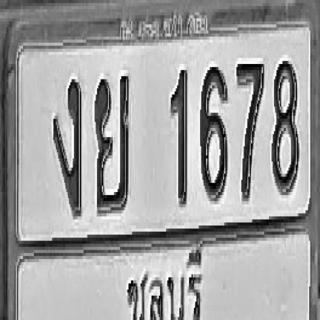A07: (52, 75, 81, 215)
A34: (94, 72, 130, 212)
N01: (170, 67, 188, 204)
N06: (200, 62, 228, 200)
N07: (236, 59, 264, 200)
N08: (271, 56, 299, 190)
P13: (121, 238, 211, 320)
